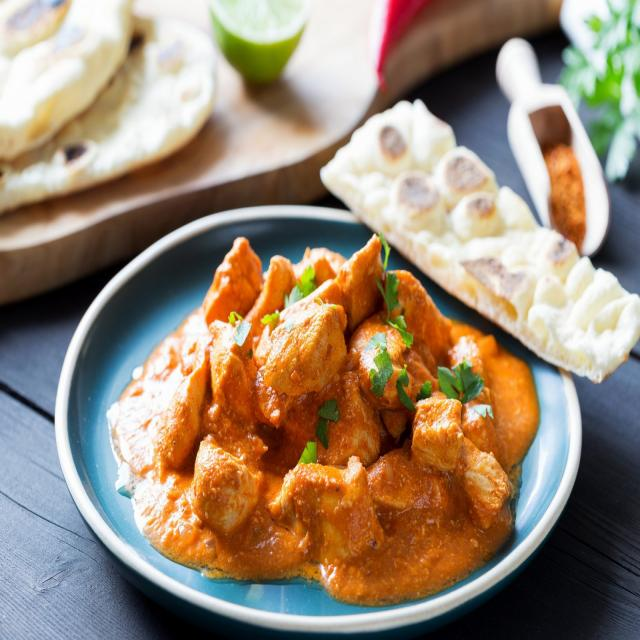Butter Chicken: (118, 245, 545, 588)
